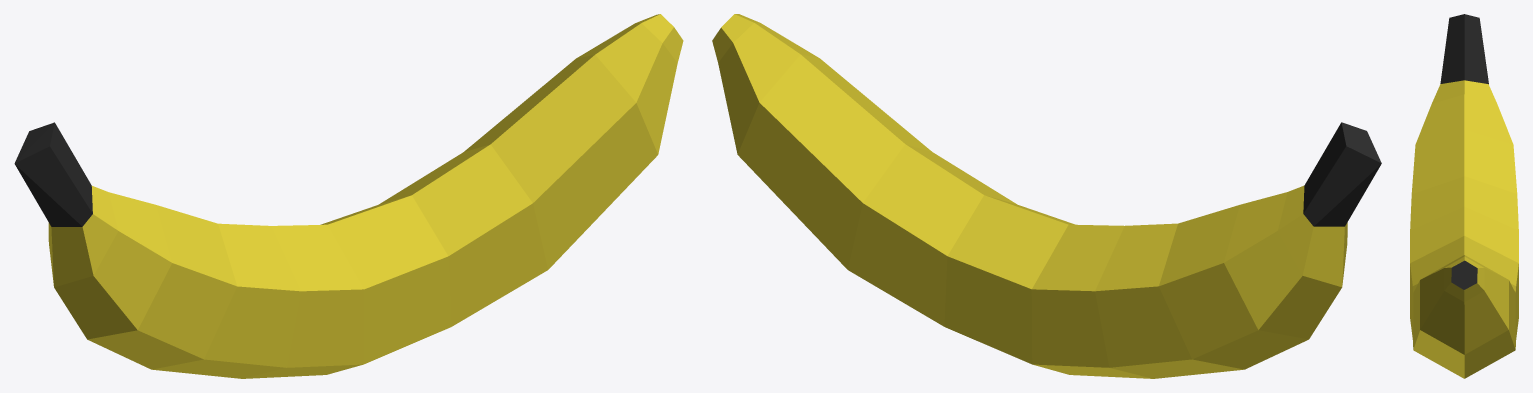
Rendered from Mesh_Banana_quad.fbx.
The picture shows the model from 3 angles, left to right: view 1: azimuth 30°, elevation 25°; view 2: azimuth 150°, elevation 25°; view 3: azimuth 270°, elevation 25°; orthographic projection. The views are drawn at different scales.
Parts seen in each view (by area): view 1: Mesh_Banana; view 2: Mesh_Banana; view 3: Mesh_Banana.
Part boxes in pixels (x1,y1,x2,y2): Mesh_Banana: (14, 14, 683, 378); Mesh_Banana: (712, 14, 1381, 378); Mesh_Banana: (1410, 14, 1518, 378).
Size of the model in its own units: 10.51 by 4.82 by 2.03.
Materials: 1 (1 with a texture image).
